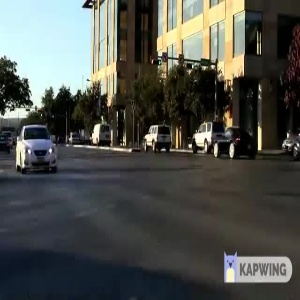car: (13, 123, 69, 175), (207, 123, 257, 160)
suv: (187, 119, 225, 152), (139, 121, 172, 152)
van: (87, 118, 113, 149)
